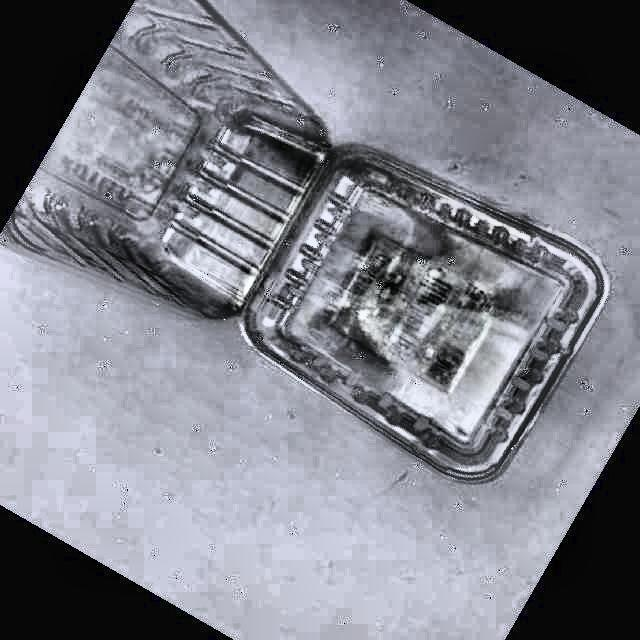plastic: (0, 0, 608, 481)
